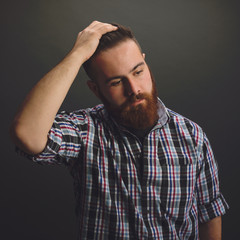young: (83, 22, 164, 131)
